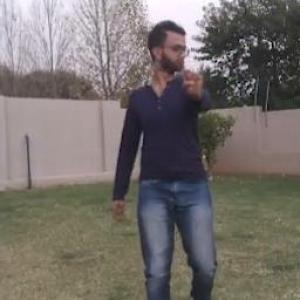takeoff-hand: (175, 51, 213, 100)
